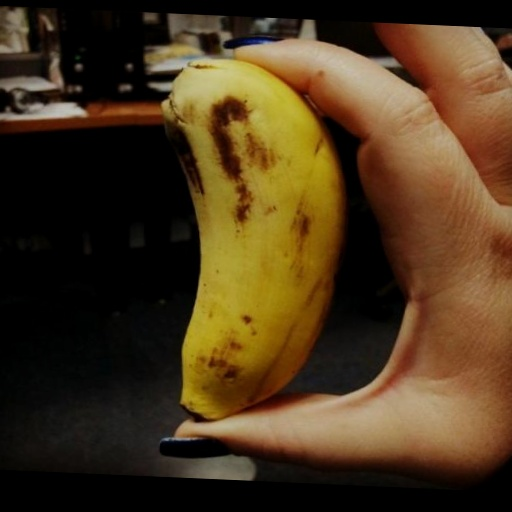fruit: (162, 59, 345, 419)
